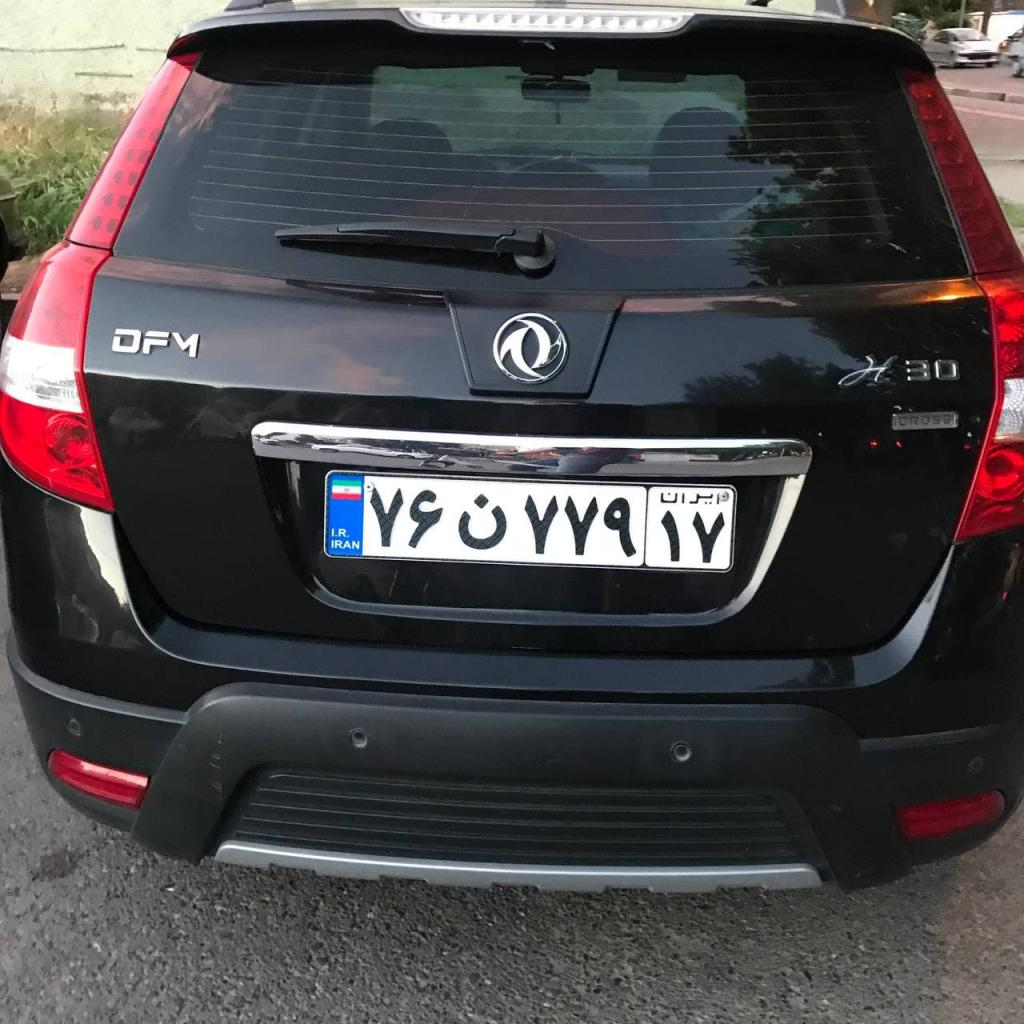Plates: (325, 472, 735, 571)
